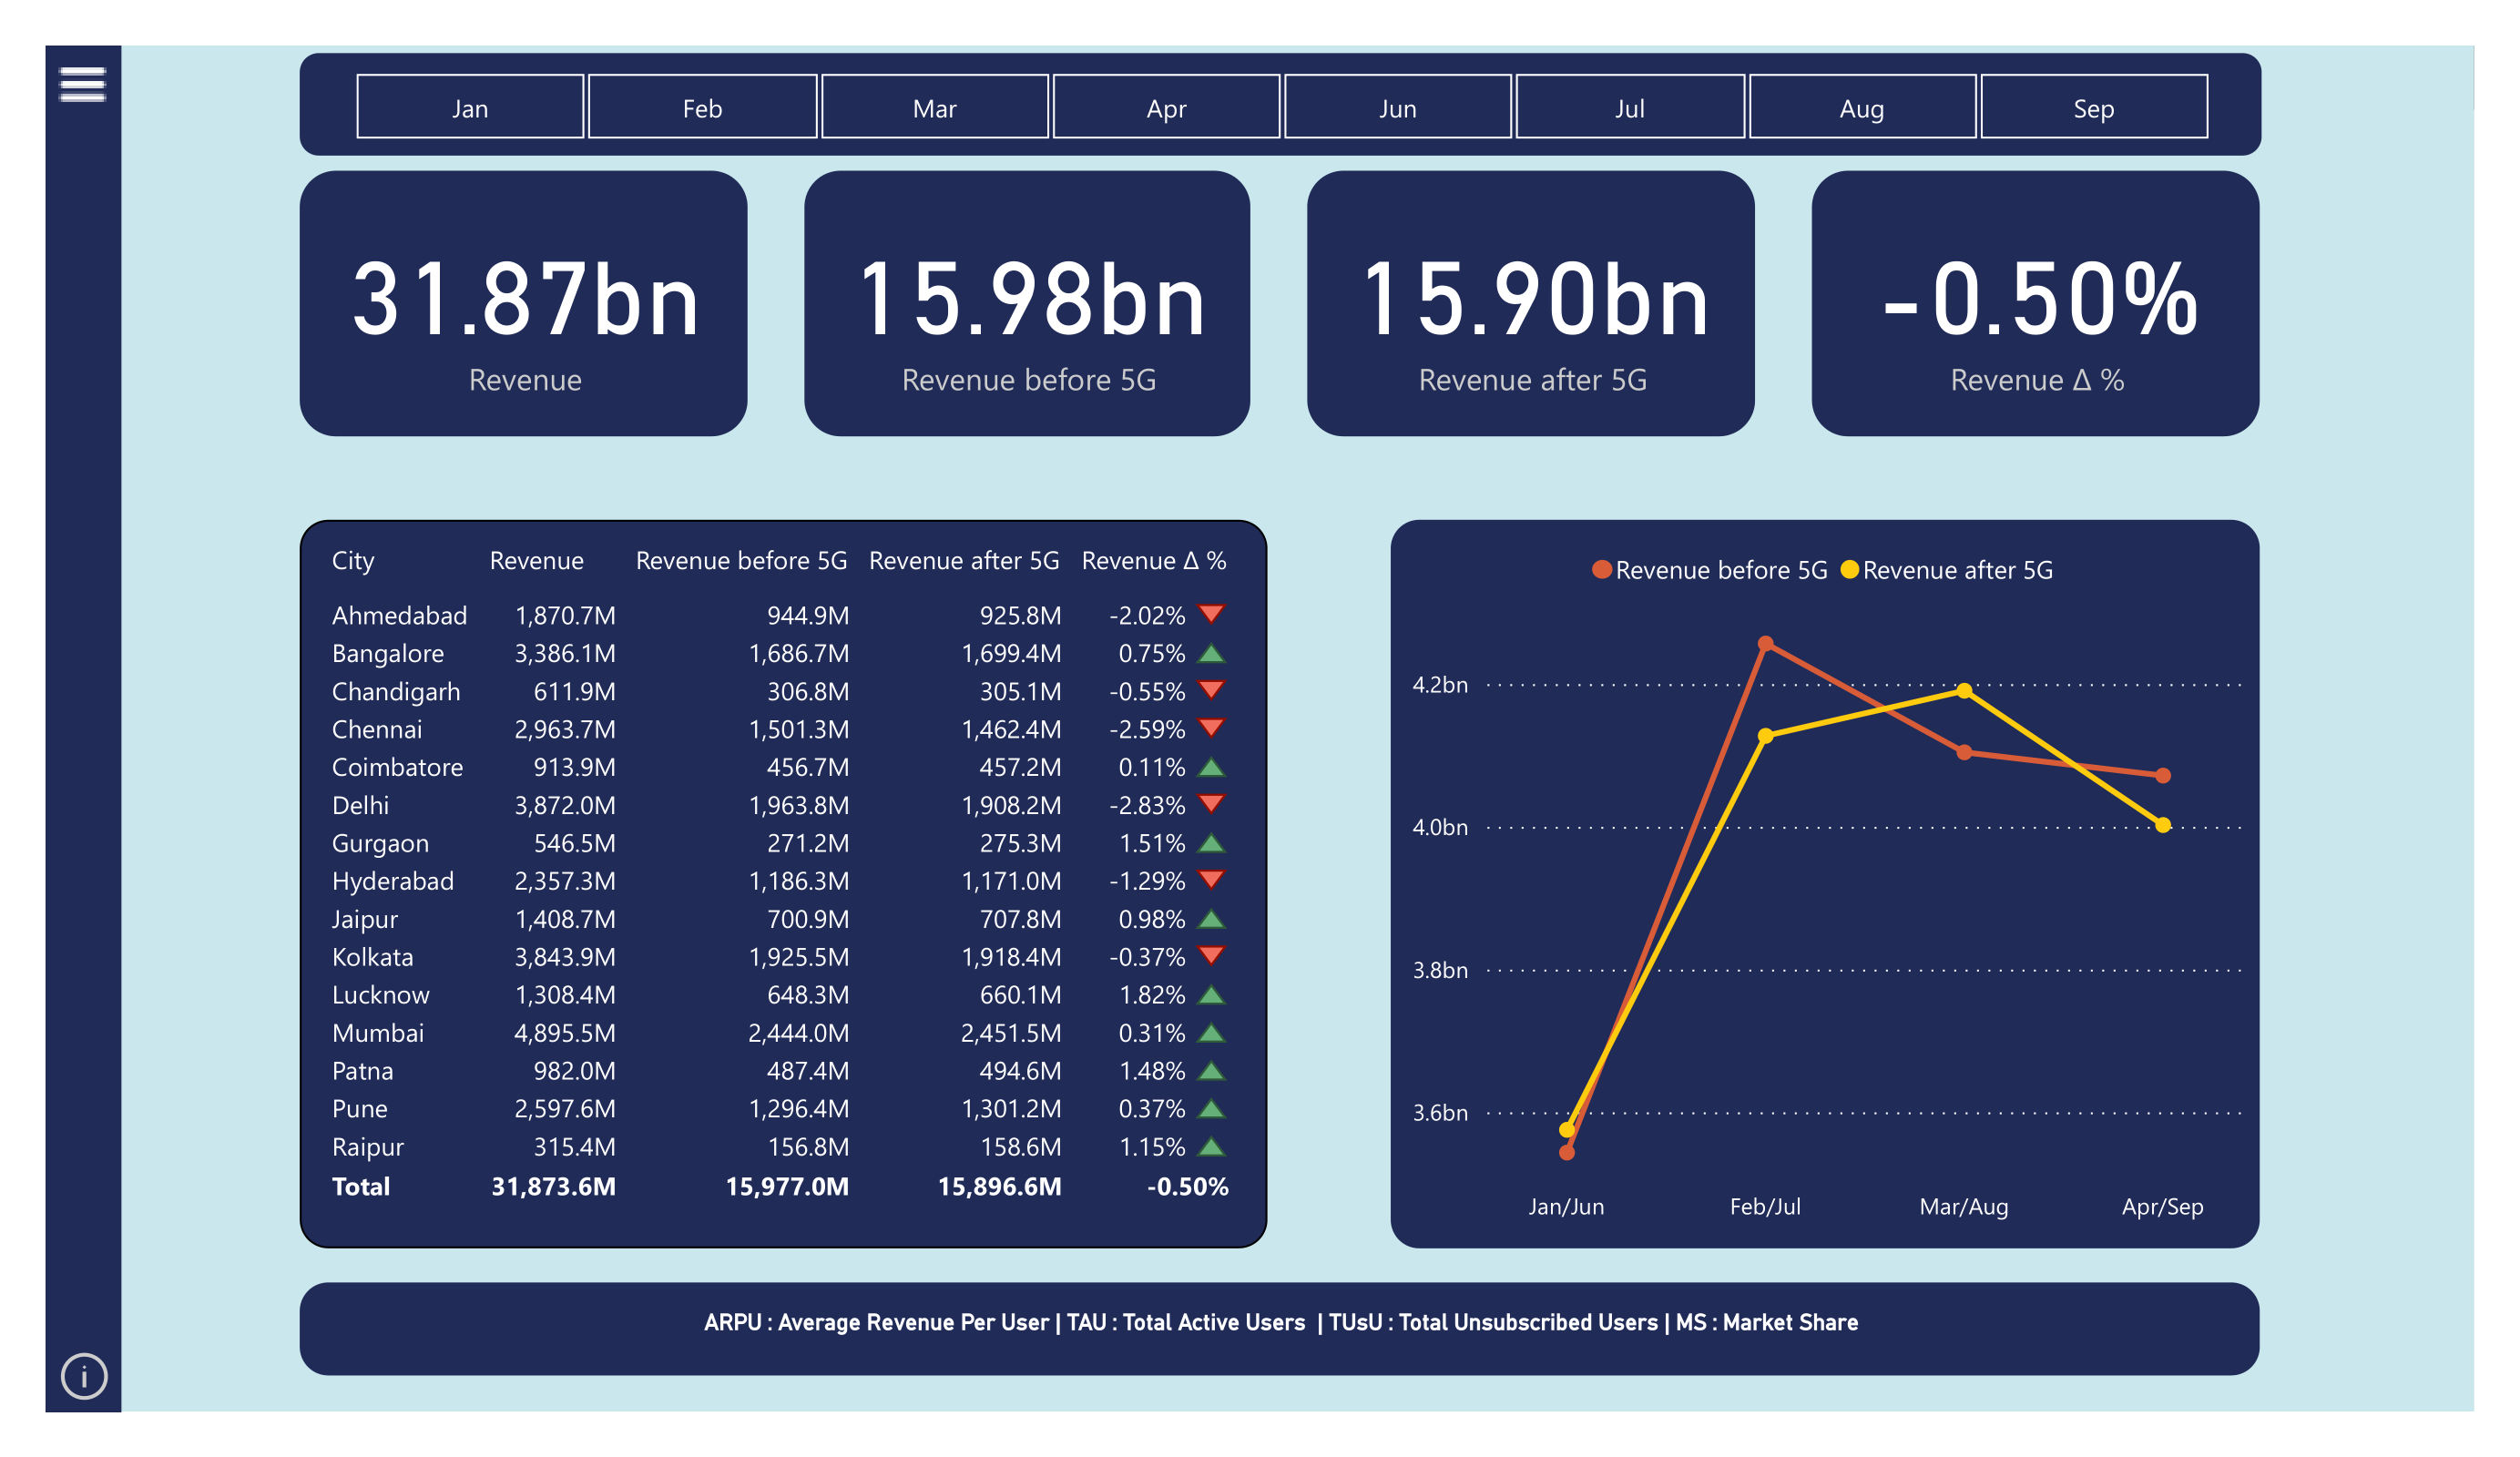

The dashboard page shown, as its layout file describes it:
{"tool":"powerbi","page":{"name":"Revenue","canvas":[1280,720],"ordinal":1},"visuals":[{"type":"shape","title":"blue left border","box":[0,0,40,935],"z":0,"group":"g2"},{"type":"slicer","fields":{"Values":["dim_date.month_name"]},"box":[134,4,1034,54],"z":0},{"type":"card","fields":{"Values":["Key Measures.Revenue"]},"box":[133.6,66,235.9,140.2],"z":0,"group":"g1"},{"type":"actionButton","title":"hamburger","box":[2,3,35,35],"z":1000,"group":"g2"},{"type":"group","id":"g1","title":"Revenue Obj","box":[133.6,66,1032.6,635],"z":1000},{"type":"card","fields":{"Values":["Key Measures.Revenue before 5G"]},"box":[399.2,66,235.9,140.2],"z":1000,"group":"g1"},{"type":"card","fields":{"Values":["Key Measures.Revenue after 5G"]},"box":[664.7,66,235.9,140.2],"z":2000,"group":"g1"},{"type":"actionButton","title":"info","box":[3,684.4,34.8,34.8],"z":2000,"group":"g2"},{"type":"group","id":"g2","title":"Menu Bar","box":[0,0,40,935],"z":3000},{"type":"card","fields":{"Values":["Key Measures.Revenue Δ %"]},"box":[930.3,66,235.9,140.2],"z":3000,"group":"g1"},{"type":"tableEx","fields":{"Values":["dim_cities.city_name","Key Measures.Revenue","Key Measures.Revenue before 5G","Key Measures.Revenue after 5G","Key Measures.Revenue Δ %"]},"box":[134.1,249.9,510,384],"z":4000,"group":"g1"},{"type":"lineChart","fields":{"Y":["Key Measures.Revenue before 5G","Key Measures.Revenue after 5G"],"Category":["dim_date.Month compare"]},"box":[709.1,249.9,457.1,384],"z":5000,"group":"g1"},{"type":"textbox","box":[134.1,652.2,1032.1,48.8],"z":6000,"group":"g1"}]}

Visuals, with their boxes on the page's 1280x720 design canvas (x1, y1, x2, y2). These are canvas units, not pixel positions in the 2520x1457 screenshot, which may show the page scaled, cropped or inside an application window:
"blue left border" shape: {"x1": 0, "y1": 0, "x2": 40, "y2": 935}
slicer - dim_date.month_name: {"x1": 134, "y1": 4, "x2": 1168, "y2": 58}
card - Key Measures.Revenue: {"x1": 134, "y1": 66, "x2": 370, "y2": 206}
"hamburger" actionButton: {"x1": 2, "y1": 3, "x2": 37, "y2": 38}
"Revenue Obj" group: {"x1": 134, "y1": 66, "x2": 1166, "y2": 701}
card - Key Measures.Revenue before 5G: {"x1": 399, "y1": 66, "x2": 635, "y2": 206}
card - Key Measures.Revenue after 5G: {"x1": 665, "y1": 66, "x2": 901, "y2": 206}
"info" actionButton: {"x1": 3, "y1": 684, "x2": 38, "y2": 719}
"Menu Bar" group: {"x1": 0, "y1": 0, "x2": 40, "y2": 935}
card - Key Measures.Revenue Δ %: {"x1": 930, "y1": 66, "x2": 1166, "y2": 206}
tableEx - dim_cities.city_name x Key Measures.Revenue: {"x1": 134, "y1": 250, "x2": 644, "y2": 634}
lineChart - Key Measures.Revenue before 5G x Key Measures.Revenue after 5G: {"x1": 709, "y1": 250, "x2": 1166, "y2": 634}
textbox: {"x1": 134, "y1": 652, "x2": 1166, "y2": 701}
